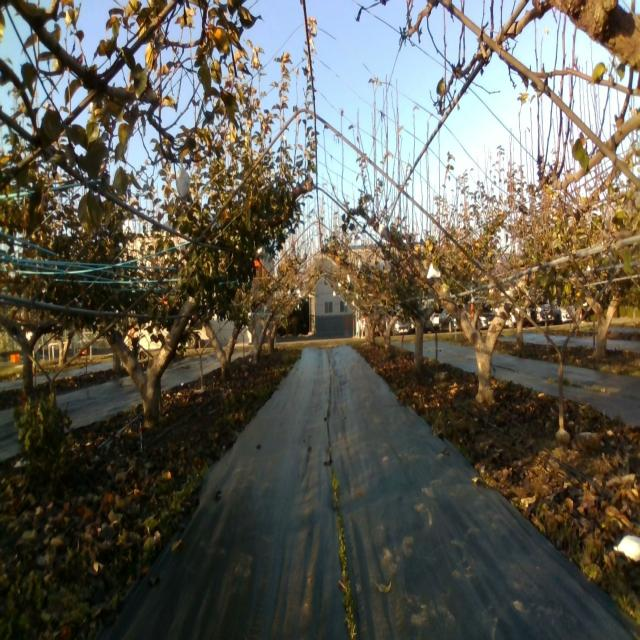pearbags: (176, 156, 190, 204)
